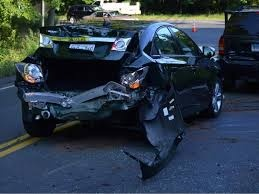Dent: (14, 64, 149, 121)
